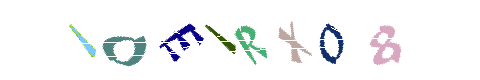0: (104, 0, 184, 80)
8: (284, 0, 364, 80)
E: (142, 0, 222, 80)
I: (45, 0, 125, 80), (182, 0, 262, 80)
O: (279, 0, 359, 80)
R: (190, 0, 270, 80)
X: (199, 0, 279, 80)
